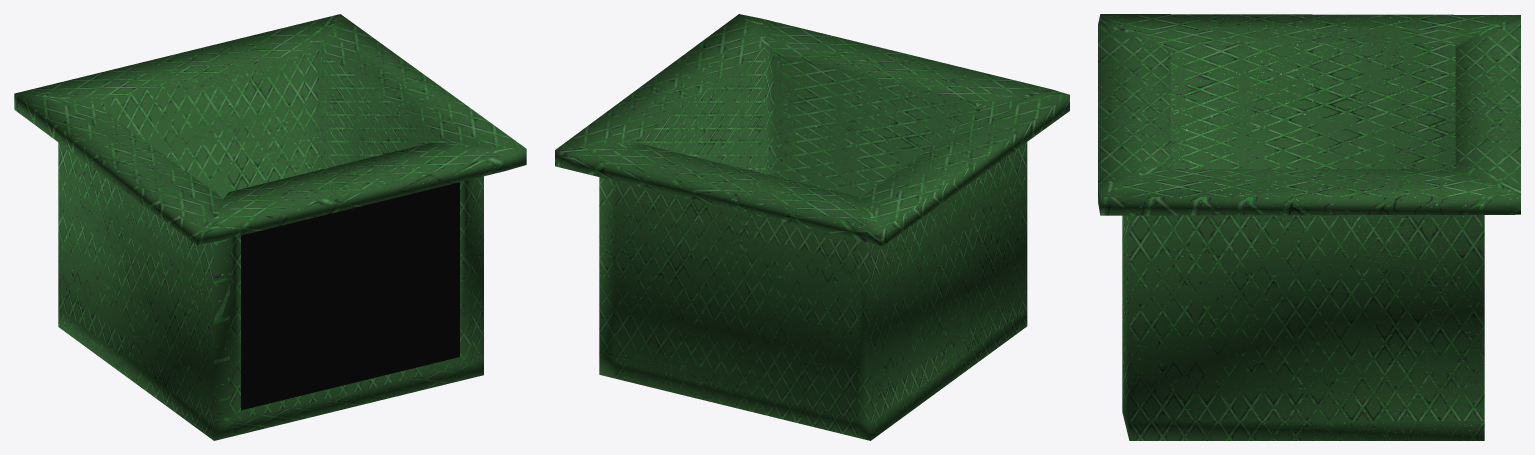
File: DashCanO'Bottles.glb
The picture shows the model from 3 angles, left to right: view 1: azimuth 30°, elevation 25°; view 2: azimuth 150°, elevation 25°; view 3: azimuth 270°, elevation 25°; orthographic projection. The views are drawn at different scales.
Visible parts, largest first — view 1: Cube; view 2: Cube; view 3: Cube.
Boxes of the visible parts, x1,y1,x2,y2 form: Cube: [14, 14, 526, 440]; Cube: [555, 14, 1069, 440]; Cube: [1098, 14, 1520, 440].
Size of the model in its own units: 2.44 by 1.62 by 2.38.
Materials: 2 (1 with a texture image).
